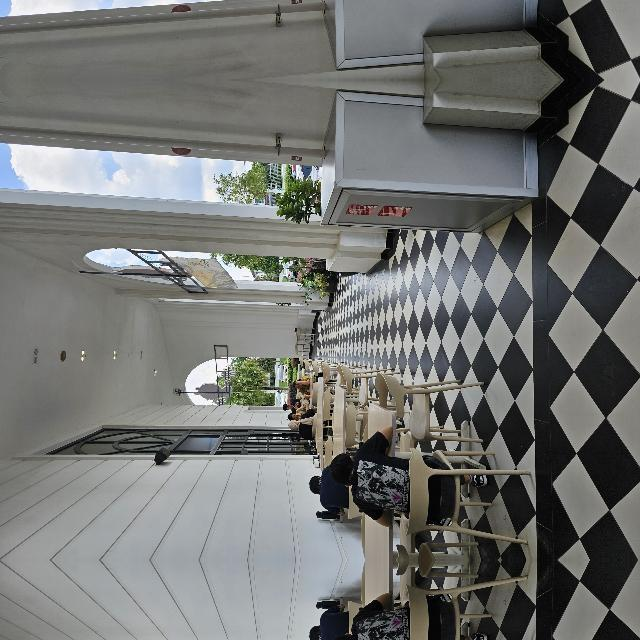obstacle: (333, 399, 472, 619), (0, 435, 186, 597), (0, 523, 186, 640), (333, 501, 472, 640)
person: (30, 408, 130, 572), (30, 548, 129, 640)
